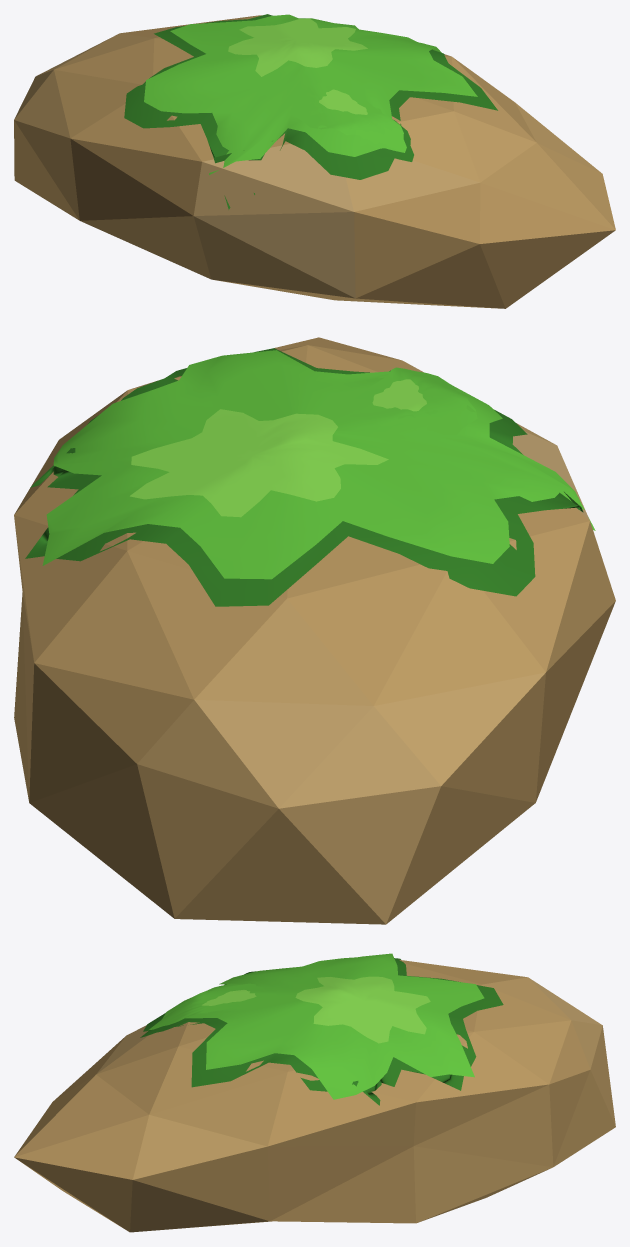
The model's file is rock_4_cap.glb.
The picture shows the model from 3 angles, top to bottom: view 1: azimuth 30°, elevation 25°; view 2: azimuth 150°, elevation 25°; view 3: azimuth 270°, elevation 25°; orthographic projection. The views are drawn at different scales.
Visible parts, largest first — view 1: rock_4_cap; view 2: rock_4_cap; view 3: rock_4_cap.
Part boxes in pixels (left/top/right/bottom): rock_4_cap: left=14, top=14, right=615, bottom=308; rock_4_cap: left=14, top=337, right=615, bottom=924; rock_4_cap: left=14, top=953, right=615, bottom=1232.
Size of the model in its own units: 1.62 by 0.791 by 2.23.
